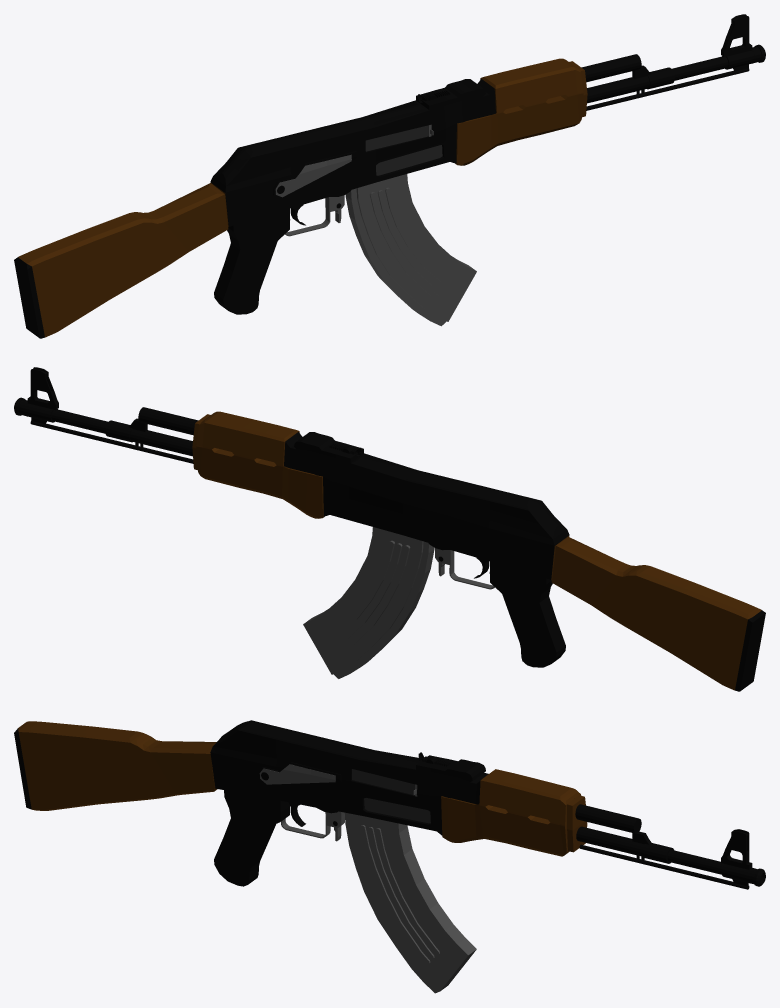
3 renders of one model, top to bottom at view 1: azimuth 30°, elevation 25°; view 2: azimuth 150°, elevation 25°; view 3: azimuth 330°, elevation 25°, orthographic.
Parts seen in each view (by area): view 1: Object_6; view 2: Object_6; view 3: Object_6.
Boxes of the visible parts, <box> form: Object_6: <box>14,14,765,338</box>; Object_6: <box>14,367,765,691</box>; Object_6: <box>14,720,765,993</box>.
Size of the model in its own units: 7.93 by 2.39 by 0.353.
